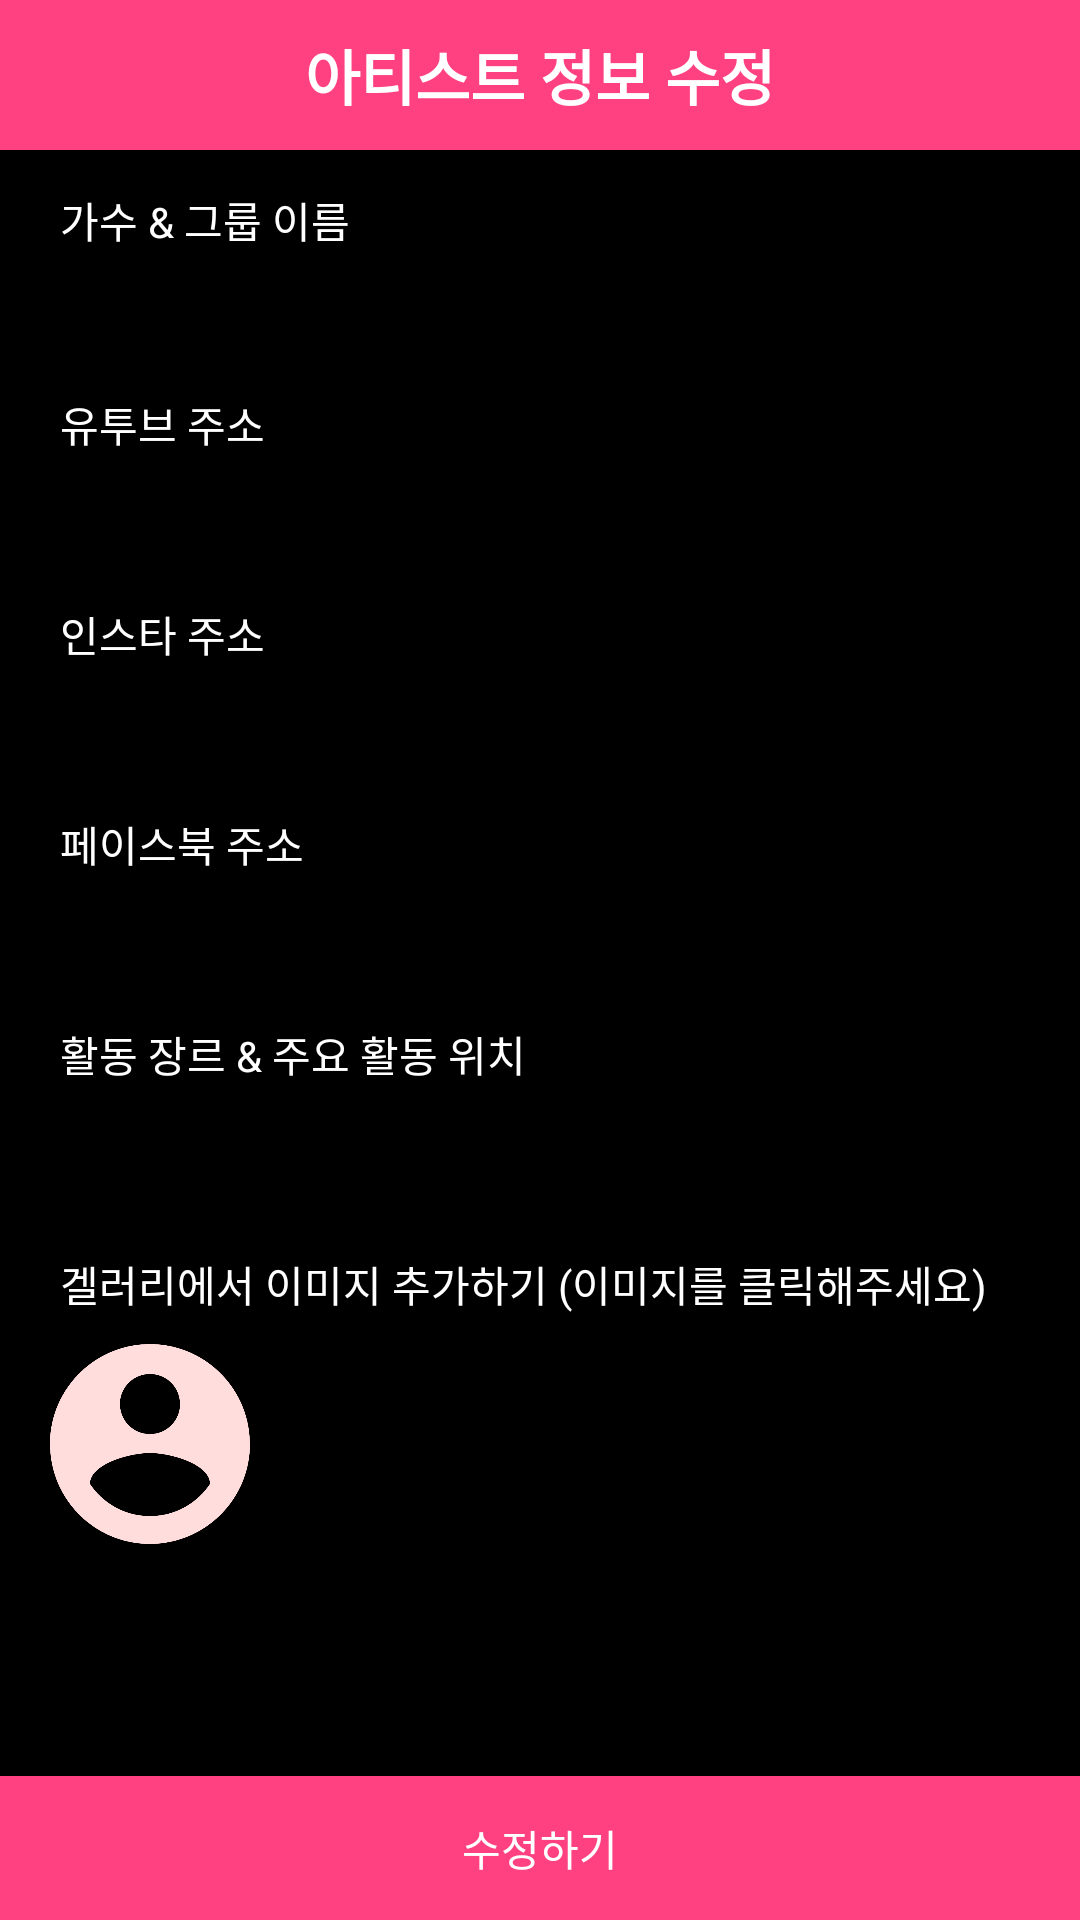

Icon bounding boxes for this 1080px×1920px phone screenshot, format box(x1, y1, x2, y2):
account circle: box(50, 1344, 250, 1544)
